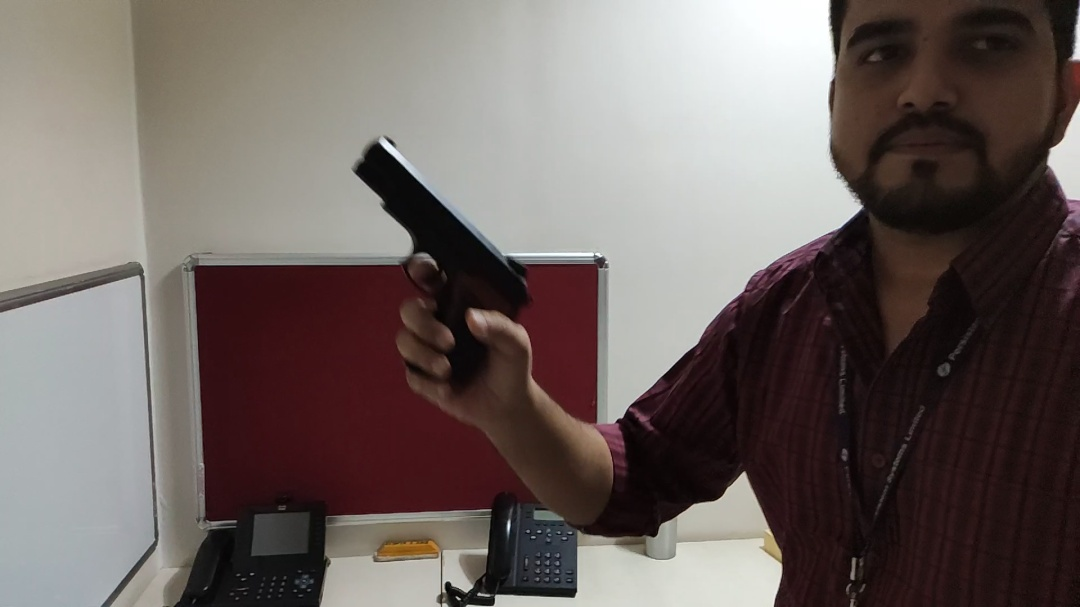gun: (352, 128, 536, 399)
